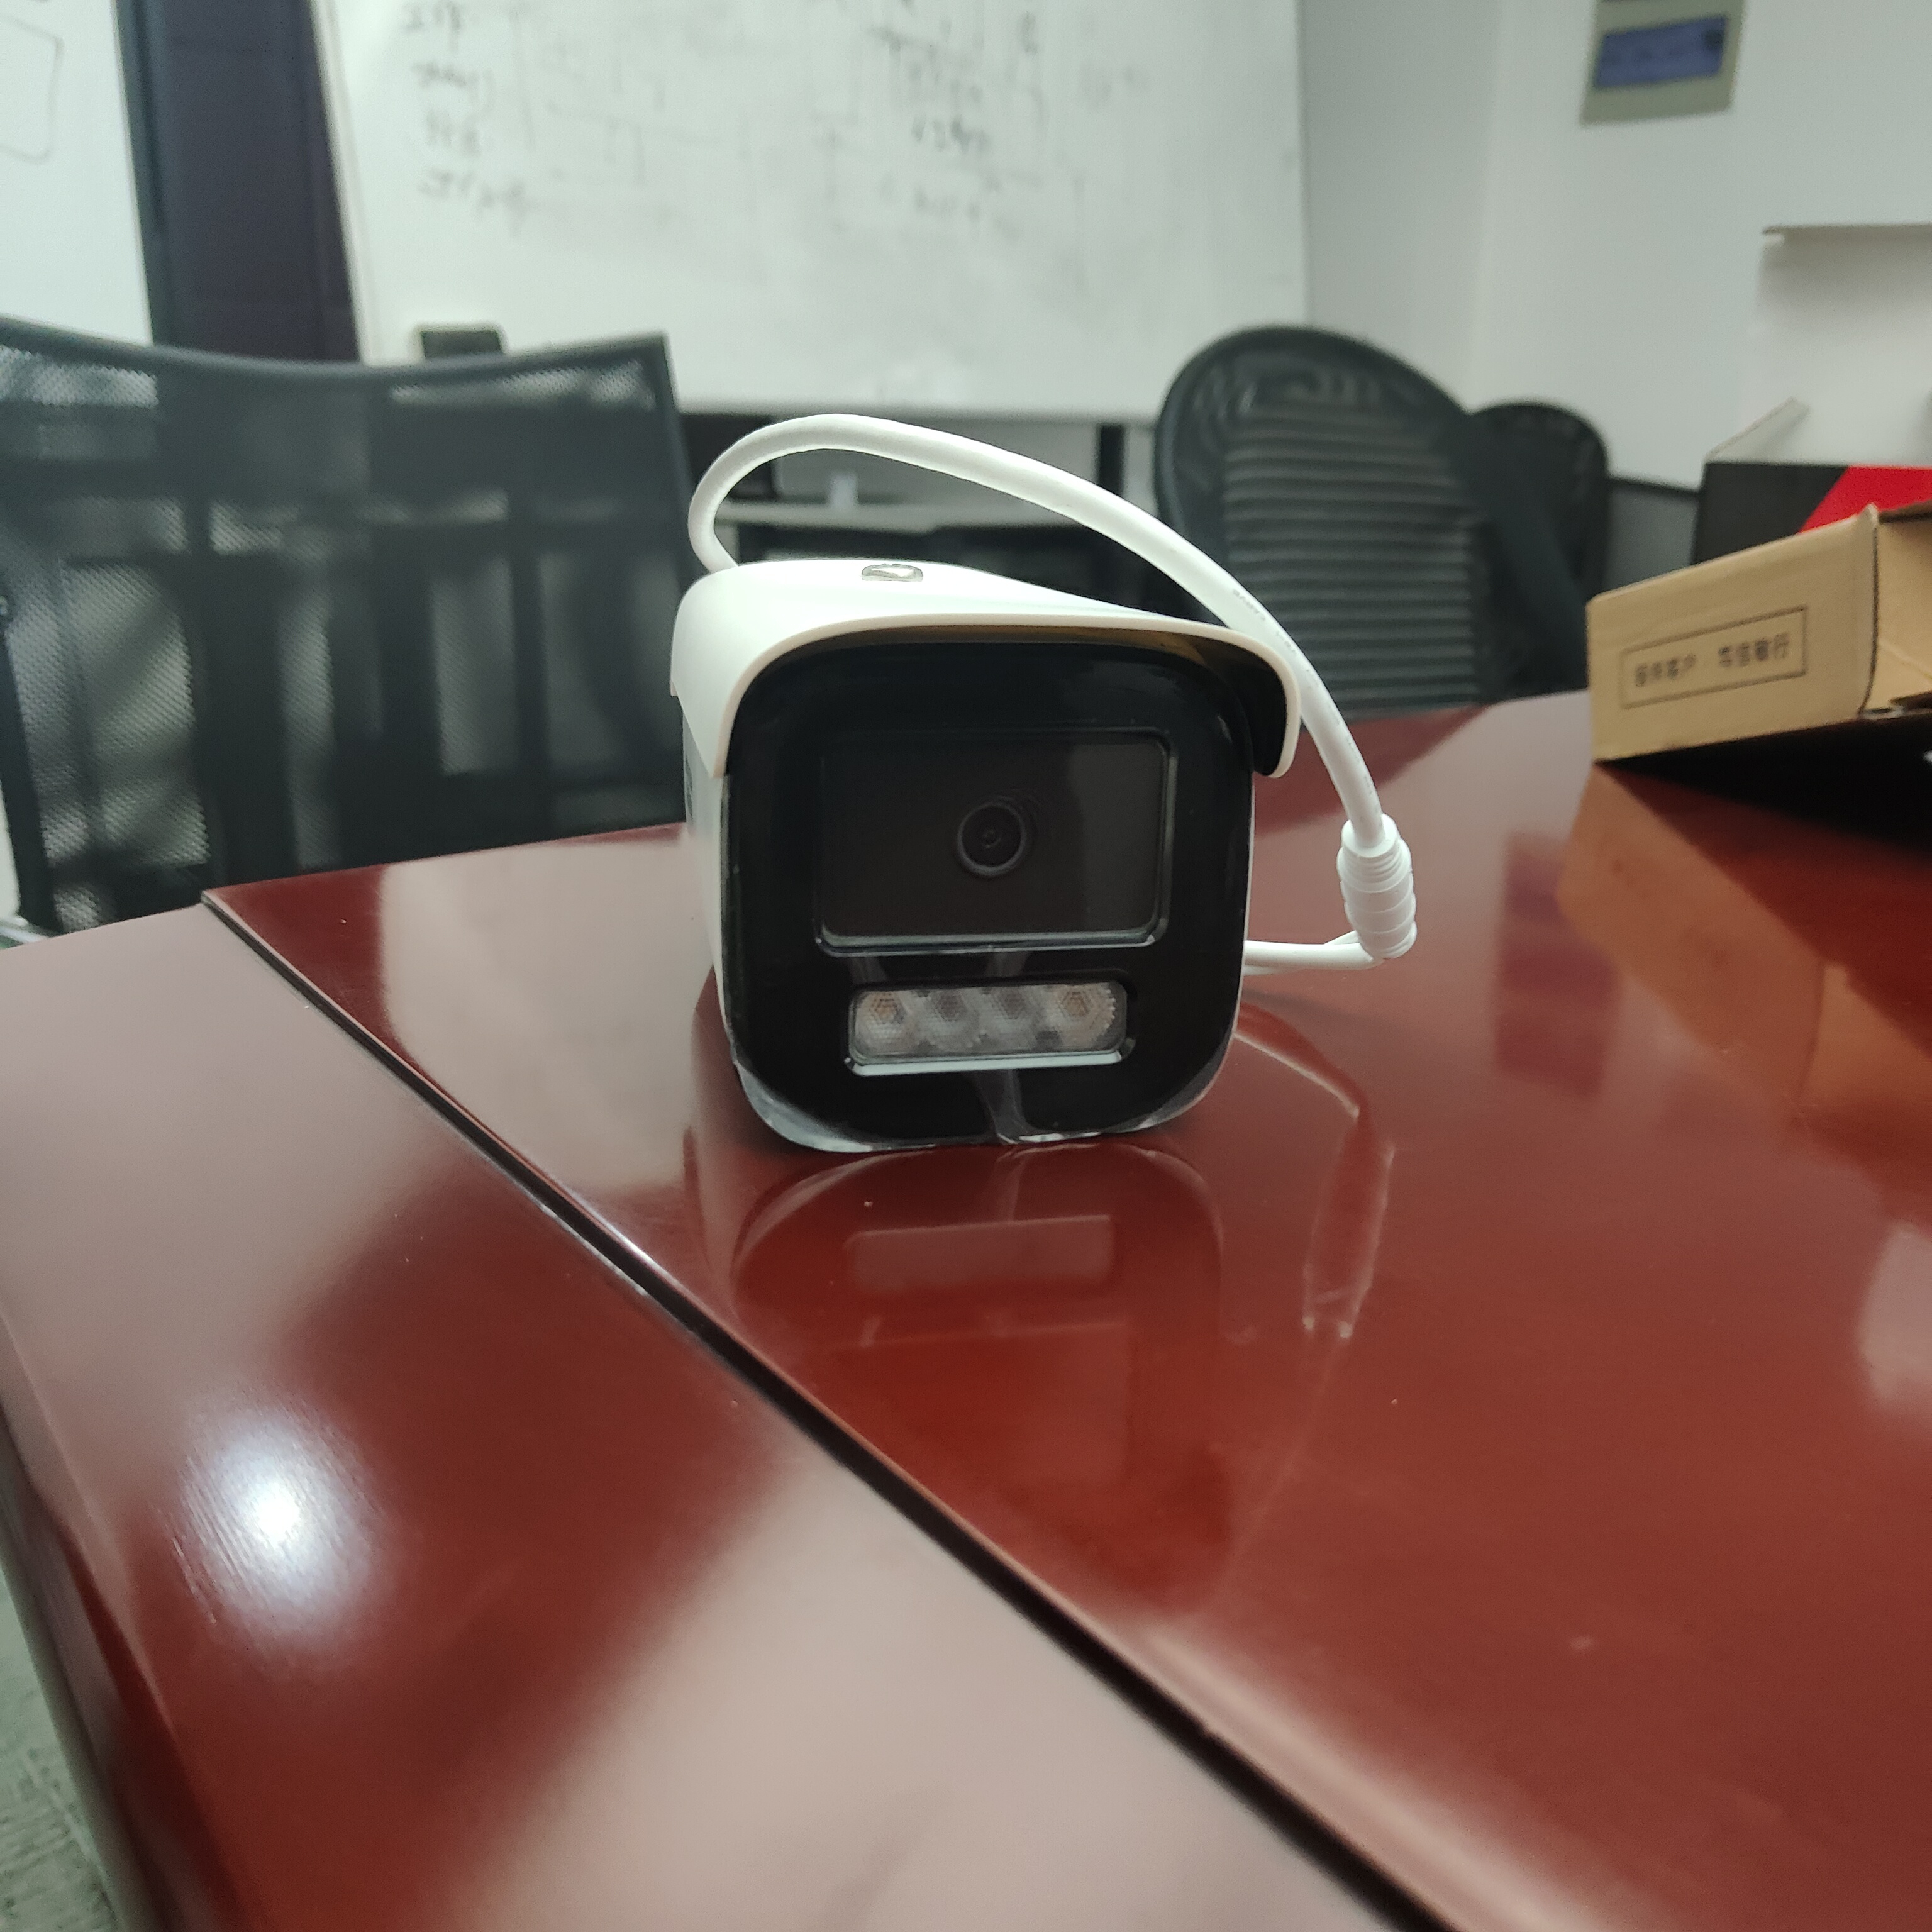hkws: (598, 423, 1368, 1164)
